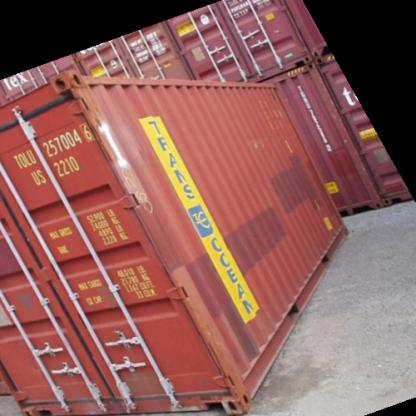Damage: (78, 63, 146, 211), (184, 285, 250, 397)
